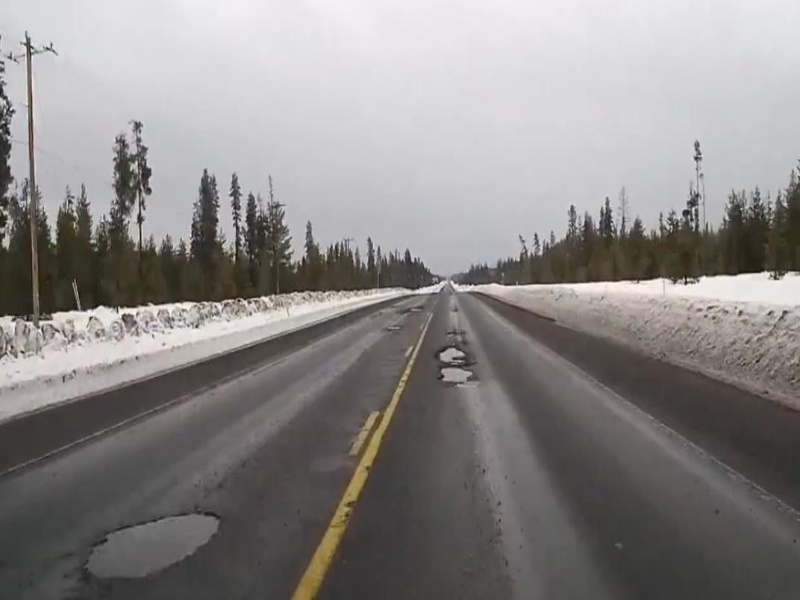pothole: (82, 506, 226, 584), (435, 363, 474, 387), (436, 343, 471, 364)
